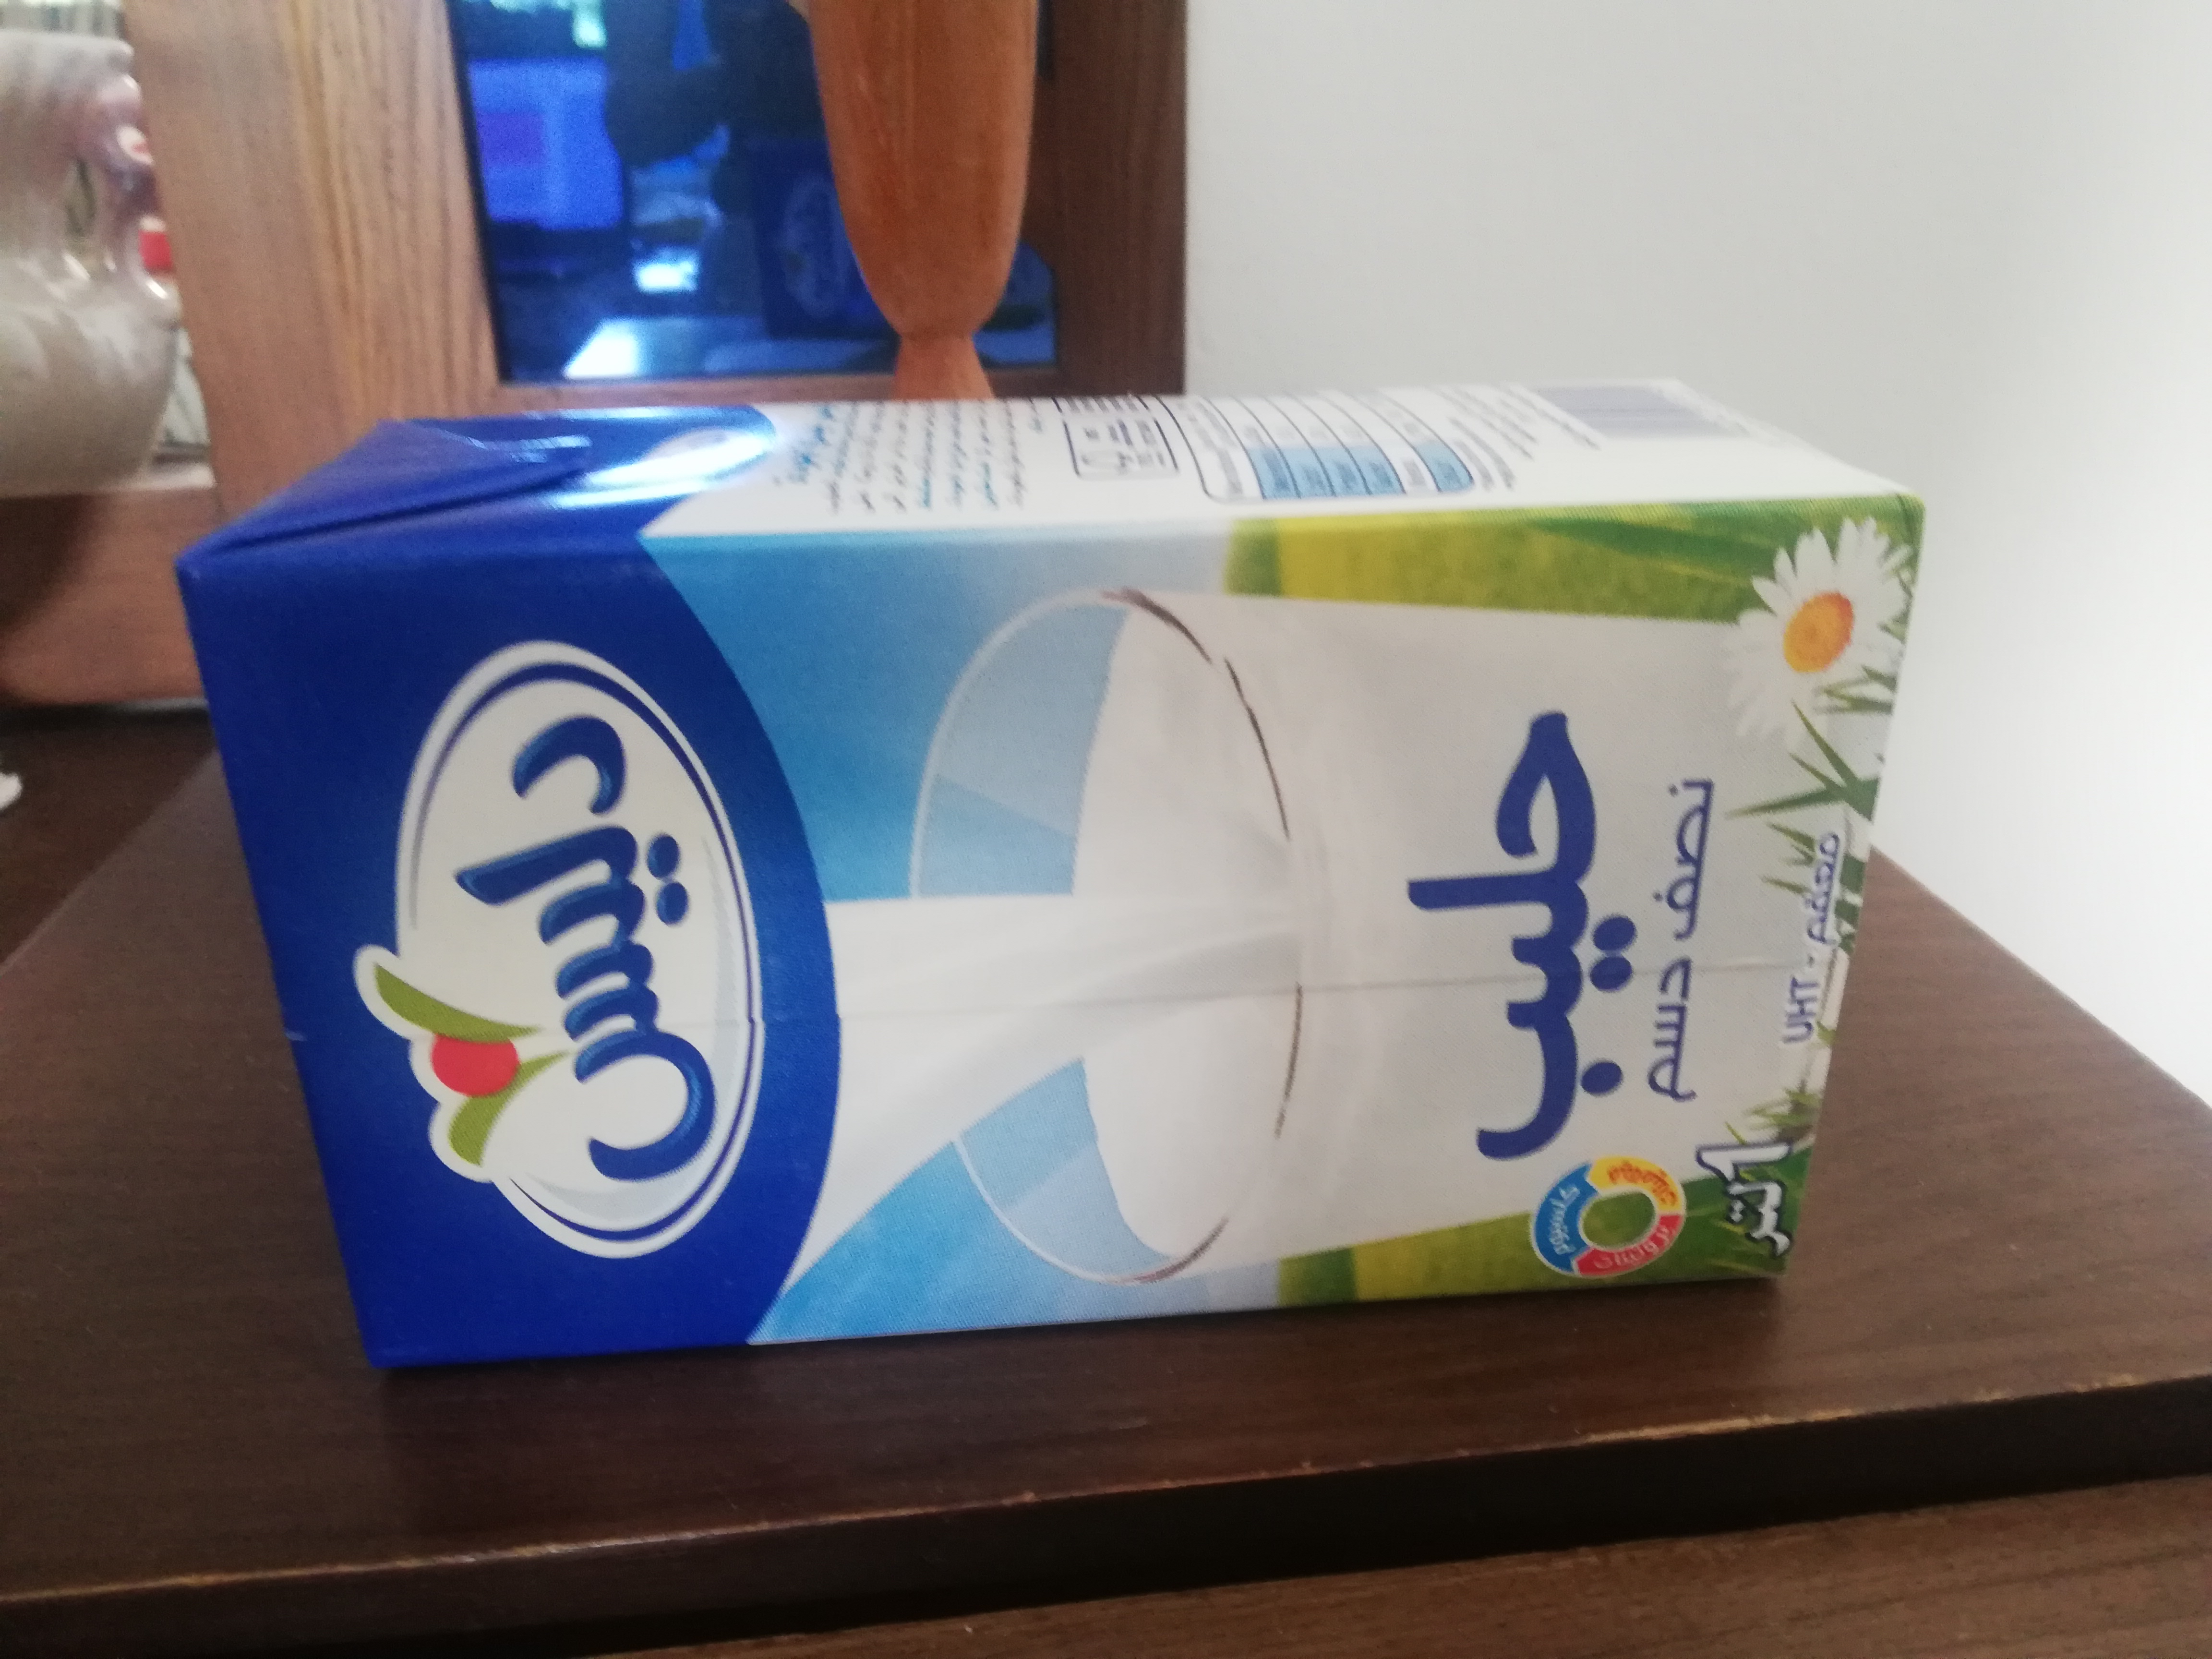Lait delice: (165, 369, 1932, 1385)
